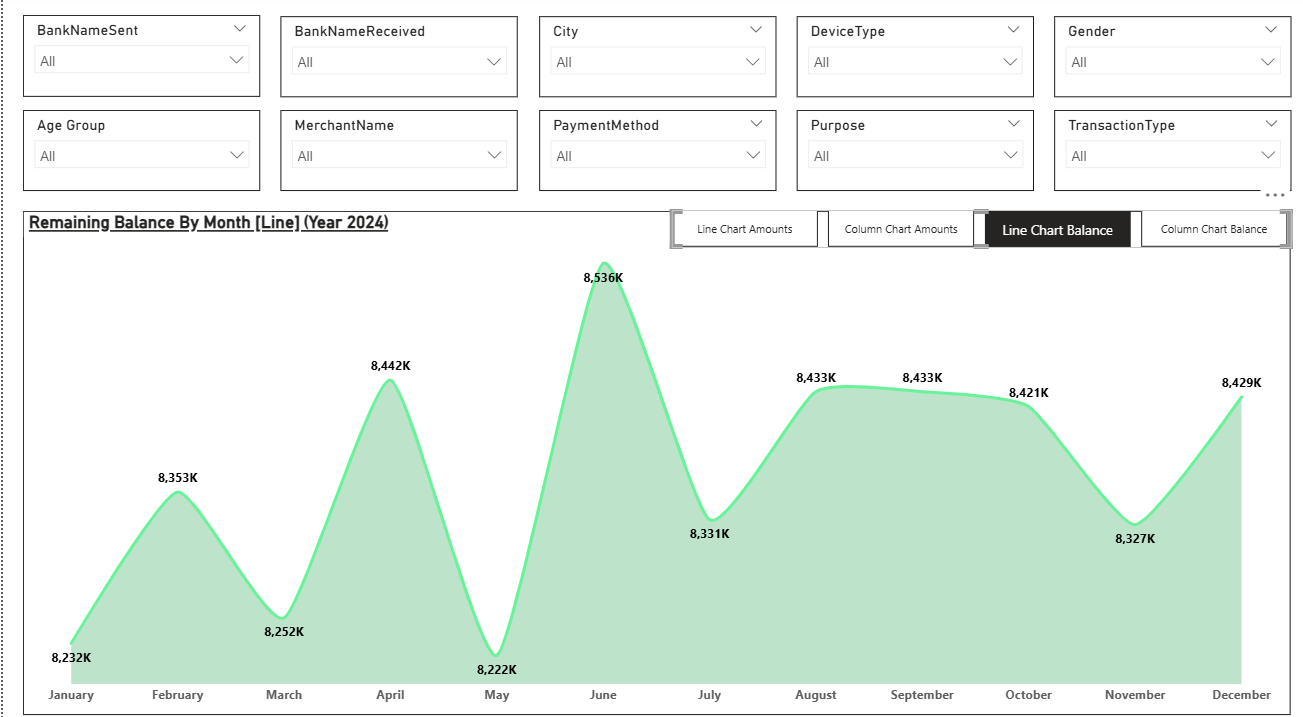

The dashboard page shown, as its layout file describes it:
{"tool":"powerbi","page":{"name":"Page 1","canvas":[1280,720],"ordinal":0},"visuals":[{"type":"slicer","fields":{"Values":["UPI  TRANSACTIONS.BankNameSent"]},"box":[20,20,232,80],"z":0},{"type":"slicer","fields":{"Values":["UPI  TRANSACTIONS.BankNameReceived"]},"box":[272,20.6,232,79.6],"z":1000},{"type":"slicer","fields":{"Values":["UPI  TRANSACTIONS.City"]},"box":[524,20.6,232,79.6],"z":2000},{"type":"slicer","fields":{"Values":["UPI  TRANSACTIONS.DeviceType"]},"box":[776,20.6,231.9,79.6],"z":3000},{"type":"slicer","fields":{"Values":["UPI  TRANSACTIONS.Gender"]},"box":[1028,20.6,232,79.6],"z":4000},{"type":"slicer","fields":{"Values":["UPI  TRANSACTIONS.Age Group"]},"box":[19.6,112.5,232.3,79.5],"z":5000},{"type":"slicer","fields":{"Values":["UPI  TRANSACTIONS.MerchantName"]},"box":[271.5,112.5,232.3,79.5],"z":6000},{"type":"slicer","fields":{"Values":["UPI  TRANSACTIONS.PaymentMethod"]},"box":[524.6,112.5,232.3,79.5],"z":7000},{"type":"slicer","fields":{"Values":["UPI  TRANSACTIONS.Purpose"]},"box":[776.5,112.5,232.3,79.5],"z":8000},{"type":"slicer","fields":{"Values":["UPI  TRANSACTIONS.TransactionType"]},"box":[1028.4,112.5,232.3,79.5],"z":9000},{"type":"lineChart","title":"Remaining Balance By Month [Line]  (Year 2024)","fields":{"Category":["UPI  TRANSACTIONS.TransactionDate.Variation.Date Hierarchy.Month"],"Y":["Sum(UPI  TRANSACTIONS.RemainingBalance)"]},"box":[19.9,211,1240,492.8],"z":14000},{"type":"bookmarkNavigator","box":[654.7,210.4,605.8,36.1],"z":15000}]}

Visuals, with their boxes in screenshot pixels (x1, y1, x2, y2), scaled from the page's 1280x720 canvas onto the 1303x717 screenshot:
slicer - UPI  TRANSACTIONS.BankNameSent: crop(20, 20, 257, 100)
slicer - UPI  TRANSACTIONS.BankNameReceived: crop(277, 21, 513, 100)
slicer - UPI  TRANSACTIONS.City: crop(533, 21, 770, 100)
slicer - UPI  TRANSACTIONS.DeviceType: crop(790, 21, 1026, 100)
slicer - UPI  TRANSACTIONS.Gender: crop(1046, 21, 1283, 100)
slicer - UPI  TRANSACTIONS.Age Group: crop(20, 112, 256, 191)
slicer - UPI  TRANSACTIONS.MerchantName: crop(276, 112, 513, 191)
slicer - UPI  TRANSACTIONS.PaymentMethod: crop(534, 112, 771, 191)
slicer - UPI  TRANSACTIONS.Purpose: crop(790, 112, 1027, 191)
slicer - UPI  TRANSACTIONS.TransactionType: crop(1047, 112, 1283, 191)
"Remaining Balance By Month [Line]  (Year 2024)" lineChart: crop(20, 210, 1283, 701)
bookmarkNavigator: crop(666, 210, 1283, 245)
